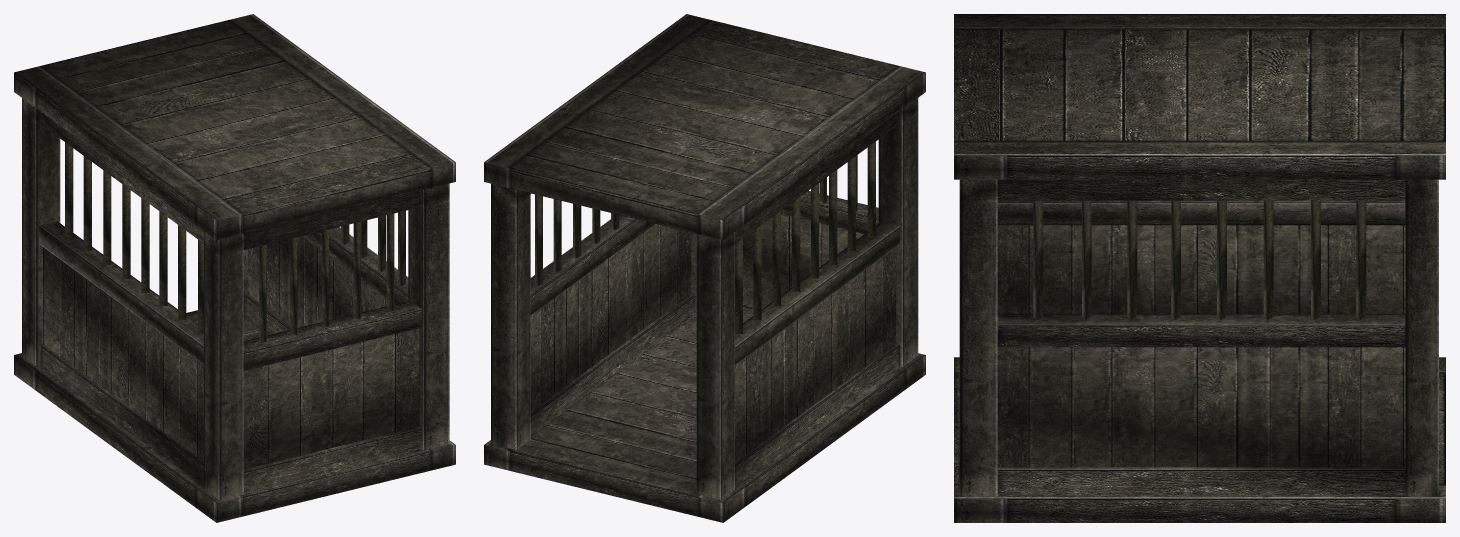
Rendered from GS_FURNITURE_CAGE_02.glb.
The picture shows the model from 3 angles, left to right: view 1: azimuth 30°, elevation 25°; view 2: azimuth 150°, elevation 25°; view 3: azimuth 270°, elevation 25°; orthographic projection. The views are drawn at different scales.
Parts seen in each view (by area): view 1: Mesh; view 2: Mesh; view 3: Mesh.
Part boxes in pixels (x1=…): Mesh: x1=14, y1=14, x2=455, y2=522; Mesh: x1=484, y1=14, x2=925, y2=522; Mesh: x1=954, y1=14, x2=1445, y2=522.
Size of the model in its own units: 2.34 by 2.82 by 3.42.
Materials: 2 (2 with a texture image).
